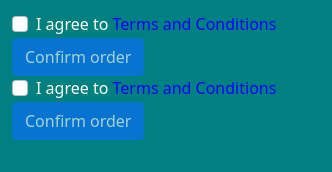
Scenario: Checkbox enables button › Checking box enables button
Check: the 1st button "Confirm order" is disabled, box [12, 38, 144, 76]
Click the checkbox labelled "I agree to Terms and Conditions" at (20, 24), box [12, 16, 28, 32]
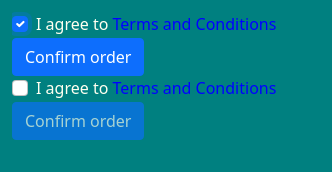
Check: the 1st button "Confirm order" is enabled, box [12, 38, 144, 76]
